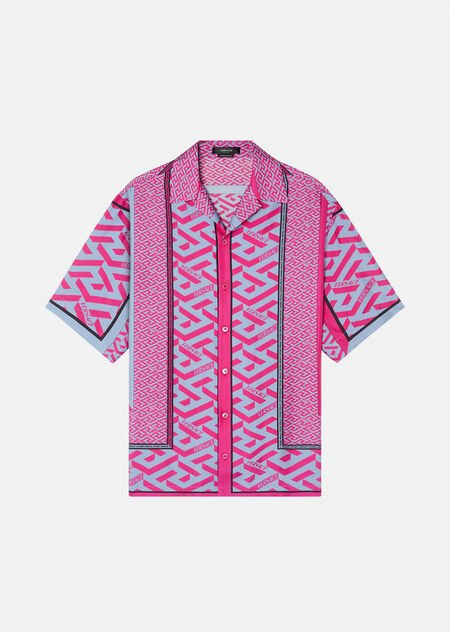short-sleeved official shirt: (41, 143, 403, 507)
